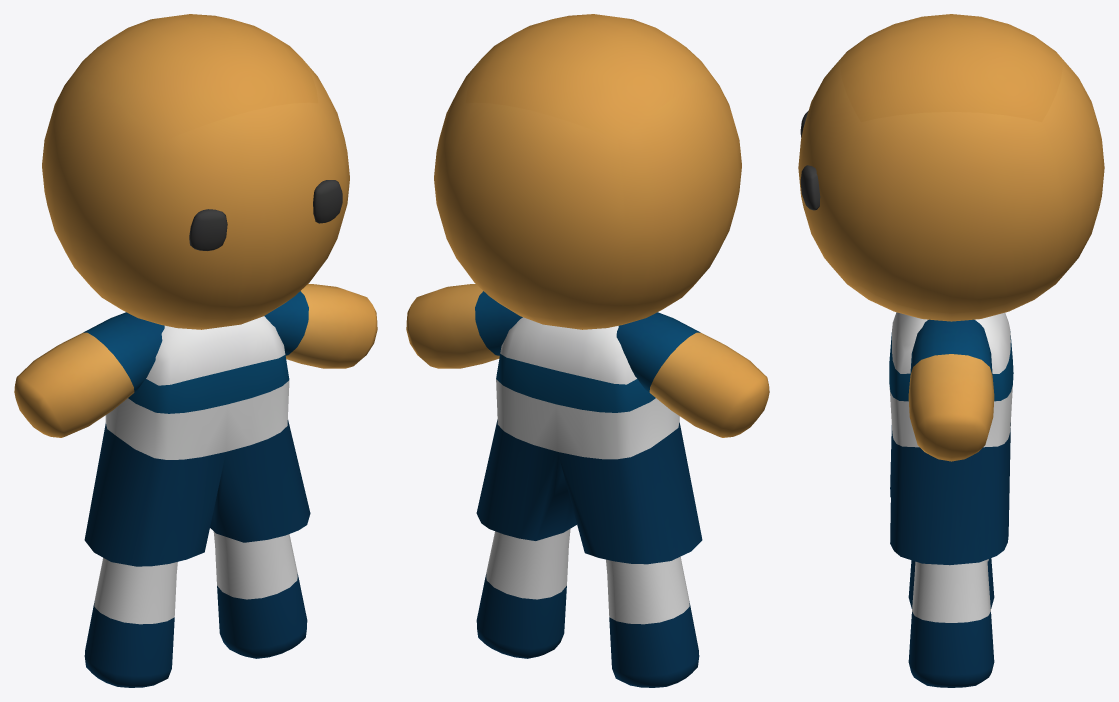
The picture shows the model from 3 angles, left to right: view 1: azimuth 30°, elevation 25°; view 2: azimuth 150°, elevation 25°; view 3: azimuth 270°, elevation 25°; orthographic projection.
Visible parts, largest first — view 1: boy; view 2: boy; view 3: boy.
Boxes of the visible parts, x1,y1,x2,y2 form: boy: (14, 14, 377, 687); boy: (406, 14, 769, 687); boy: (798, 14, 1104, 687).
Size of the model in its own units: 18.1 by 31.15 by 13.93.
1 material, 1 textured.
